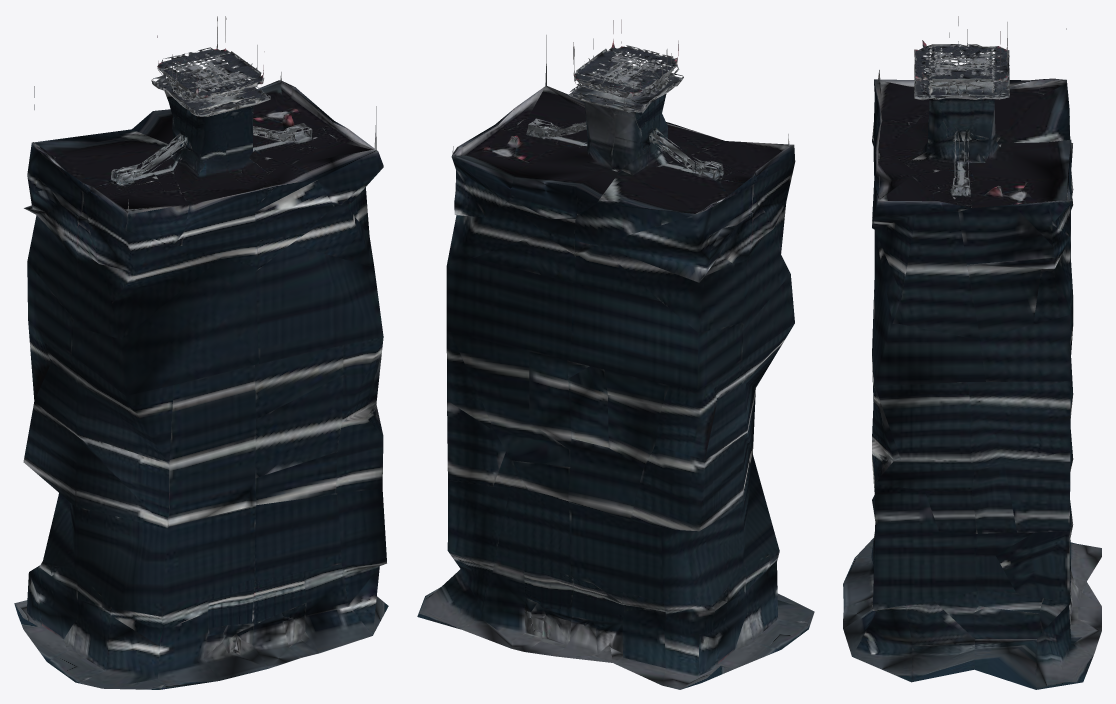
Rendered from tower_h_p.glb.
The picture shows the model from 3 angles, left to right: view 1: azimuth 30°, elevation 25°; view 2: azimuth 150°, elevation 25°; view 3: azimuth 270°, elevation 25°; orthographic projection. The views are drawn at different scales.
Size of the model in its own units: 1.12 by 1.9 by 0.7682.
1 material, 1 textured.
